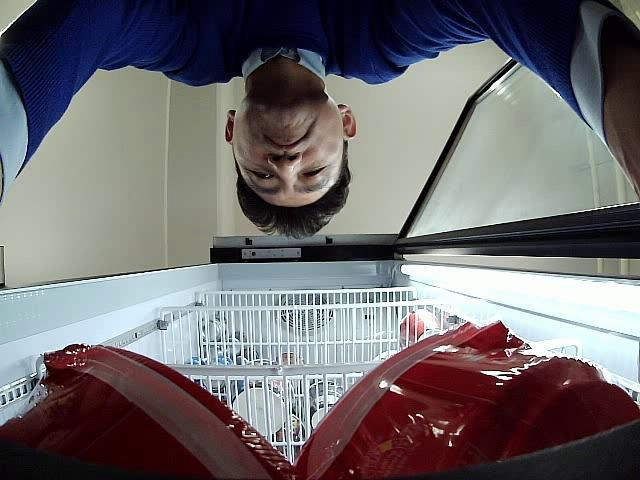10_wangTtukkeong: (300, 322, 640, 480), (0, 345, 293, 480)
